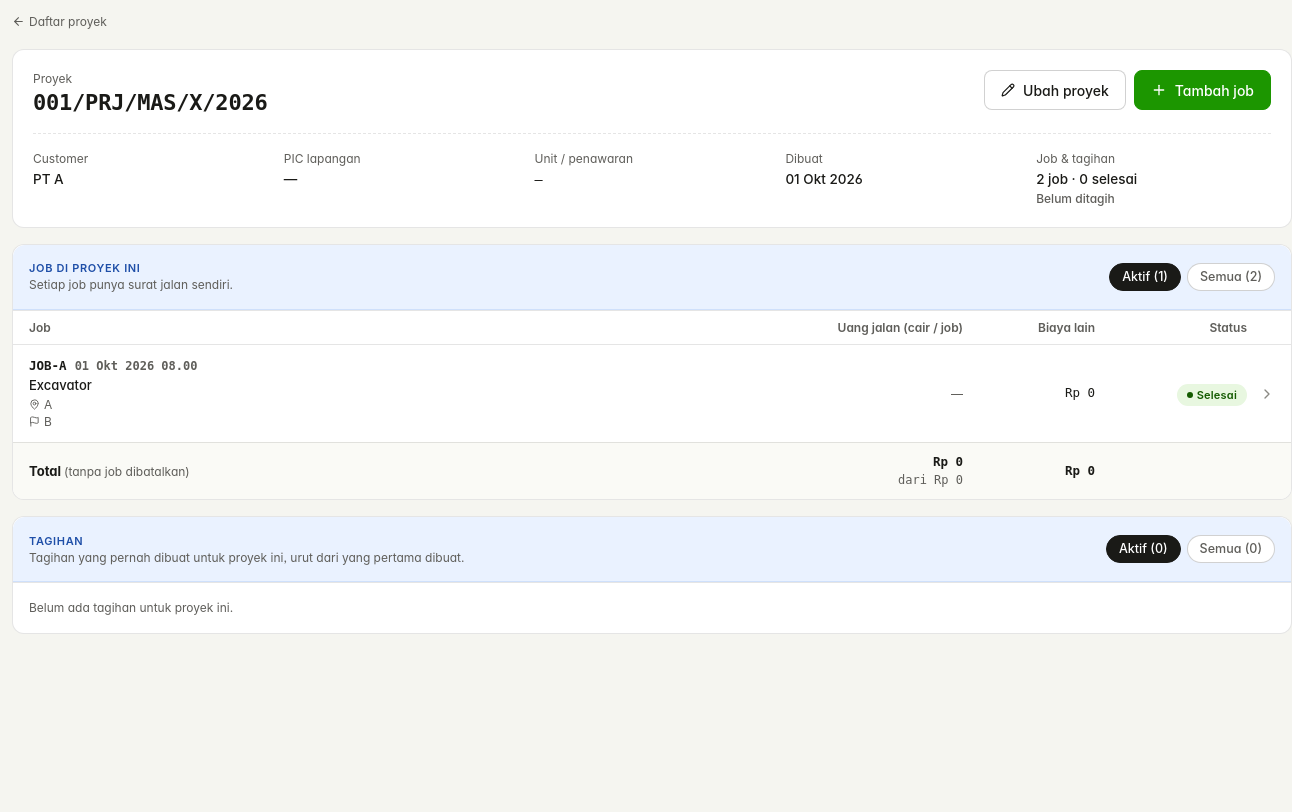
Test: filter job Aktif / Semua › default Aktif: job dibatalkan disembunyikan; Semua menampilkannya
Expected: the text "JOB-A" is shown, [29,358,67,373]
Expected: the text "JOB-B" is not shown
Click the button "Semua (2)": [1231, 277] box [1187,263,1275,291]
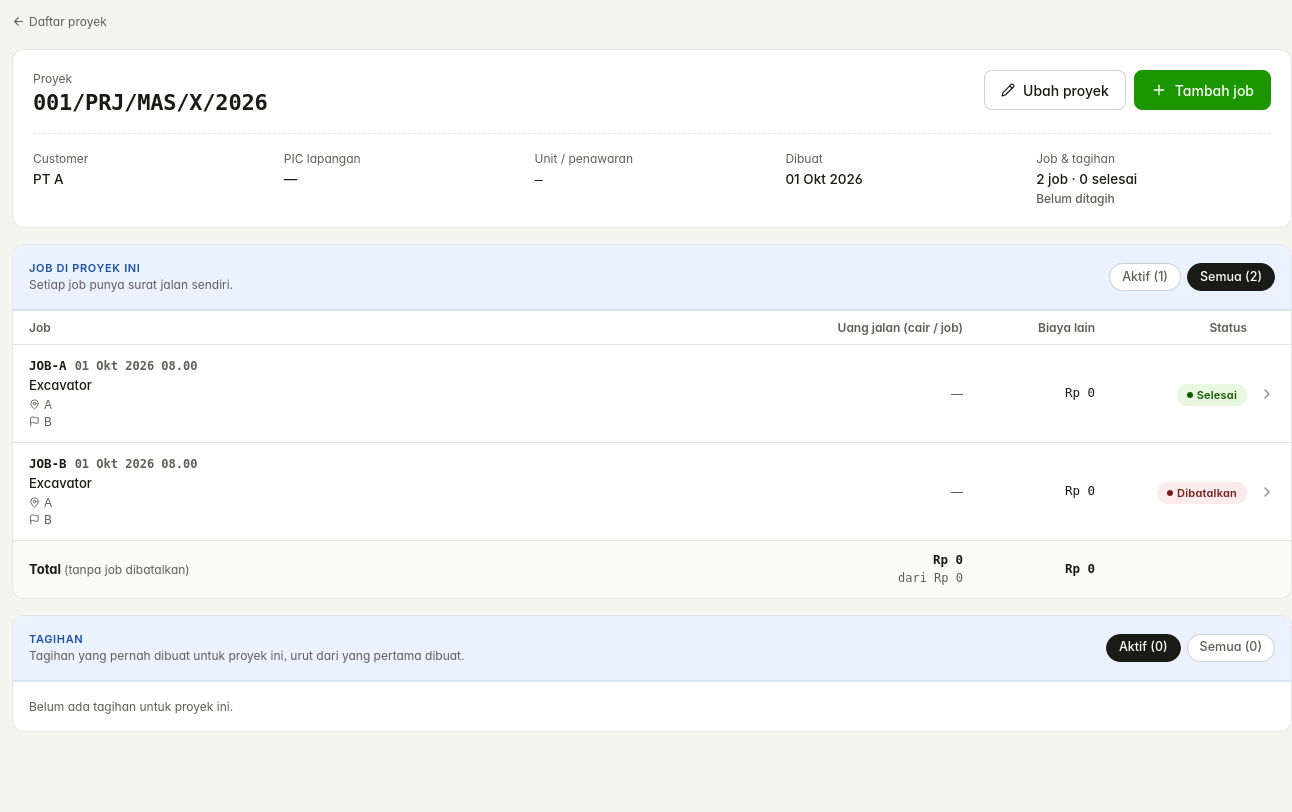
Now the text "JOB-B" is shown, box [29,456,67,471]
